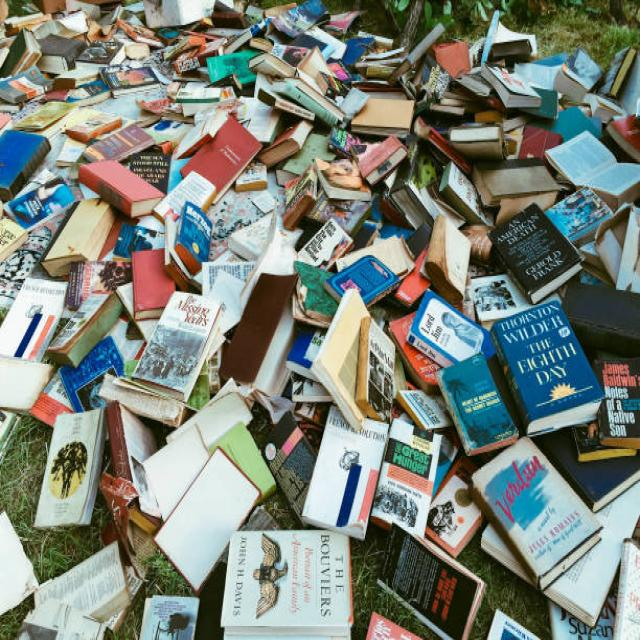paper: (42, 38, 589, 526)
